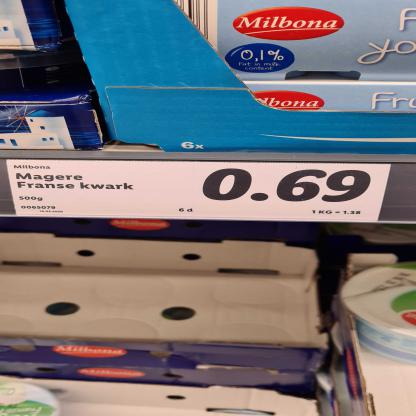prtg: (7, 161, 393, 223)
